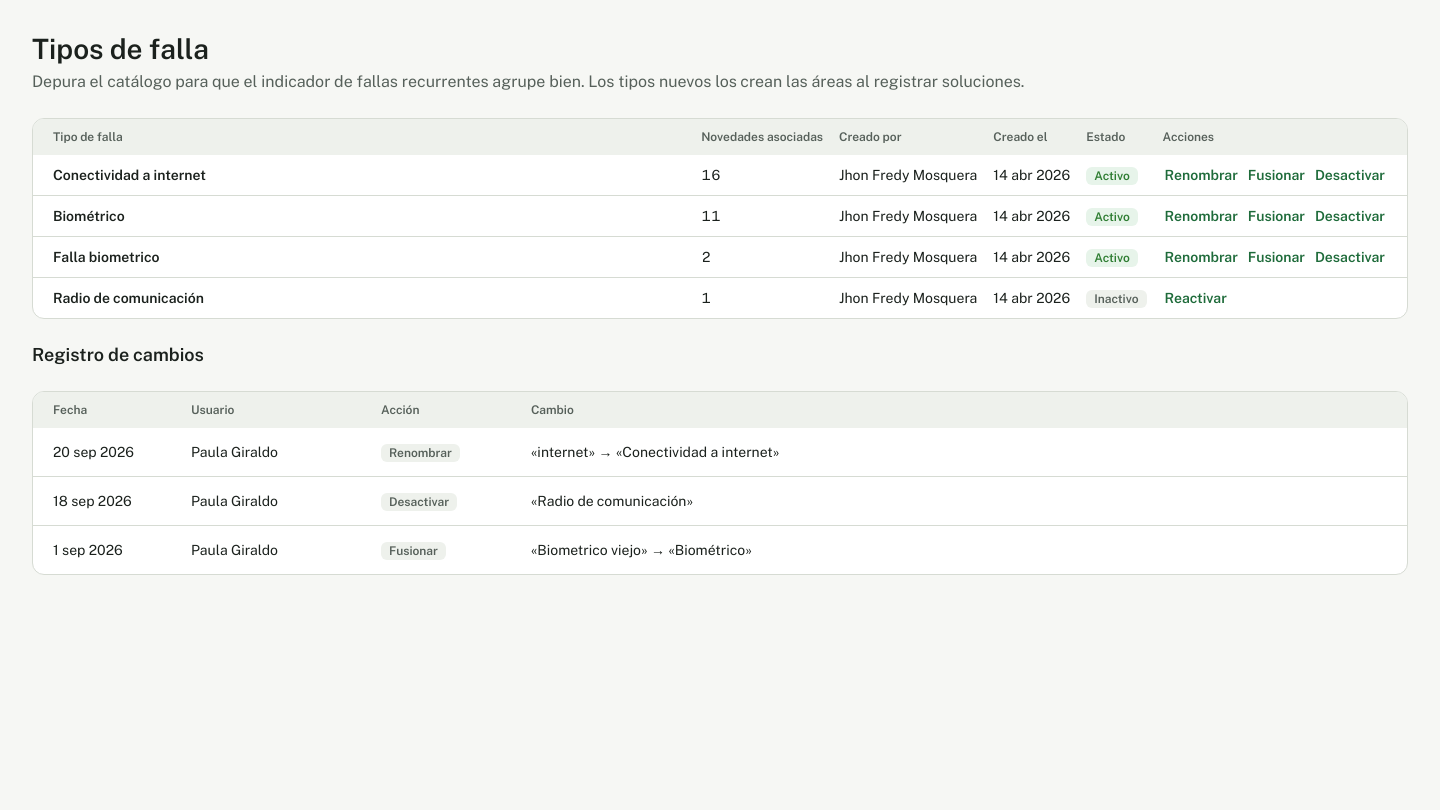
Scenario: Pantalla 31 · Tipos de falla (RF-32 / CU-32) › RF-32 / cambio 39: un tipo desactivado solo se reactiva, sin confirmación
The image size is (1440, 810).
Expected: the text "Inactivo" is shown, [1086,290,1147,308]
What coordinates should you click on to do the following:
click the button with aria-label "Reactivar Radio de comunicación"
I would click on:
 (1196, 298)
Its box is [1163,288,1229,308].
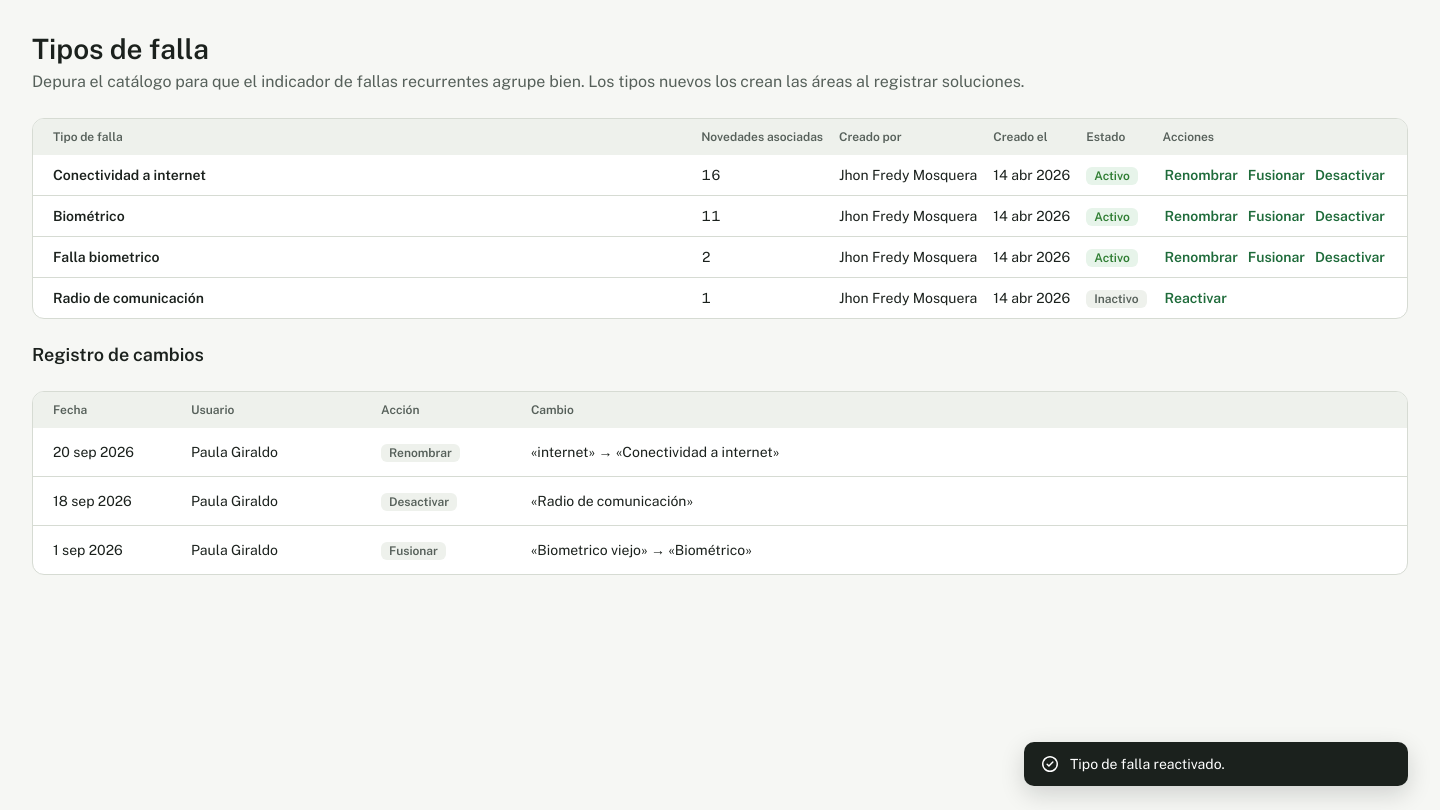
Expected: the text "Tipo de falla reactivado." is shown, [1070,756,1225,772]
